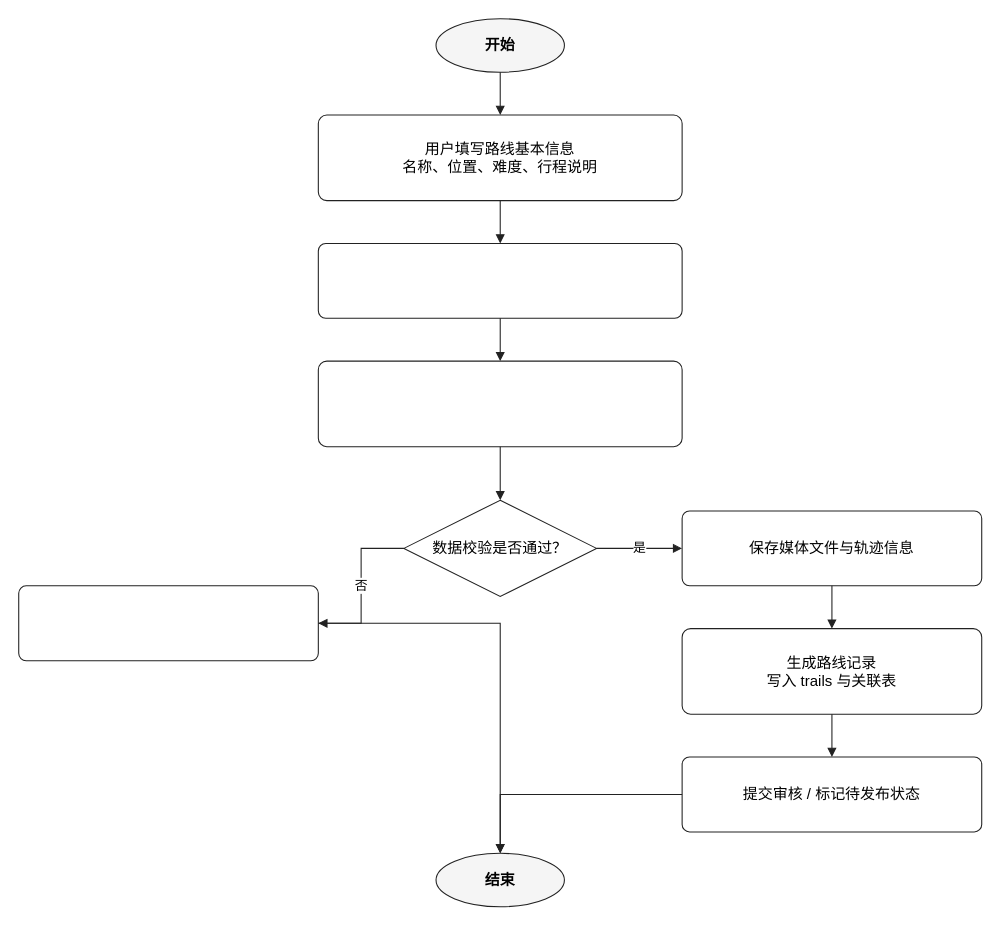
This 1000x926 diagram has some shape labels left out. The centre of each missing label's shape, as x and y in pixels:
"上传封面图、路线图片与轨迹文件" goes at pixel 499 280.
"提示用户修改后重新提交" goes at pixel 168 623.
"系统解析轨迹文件 提取起终点、距离、海拔等数据" goes at pixel 499 403.
